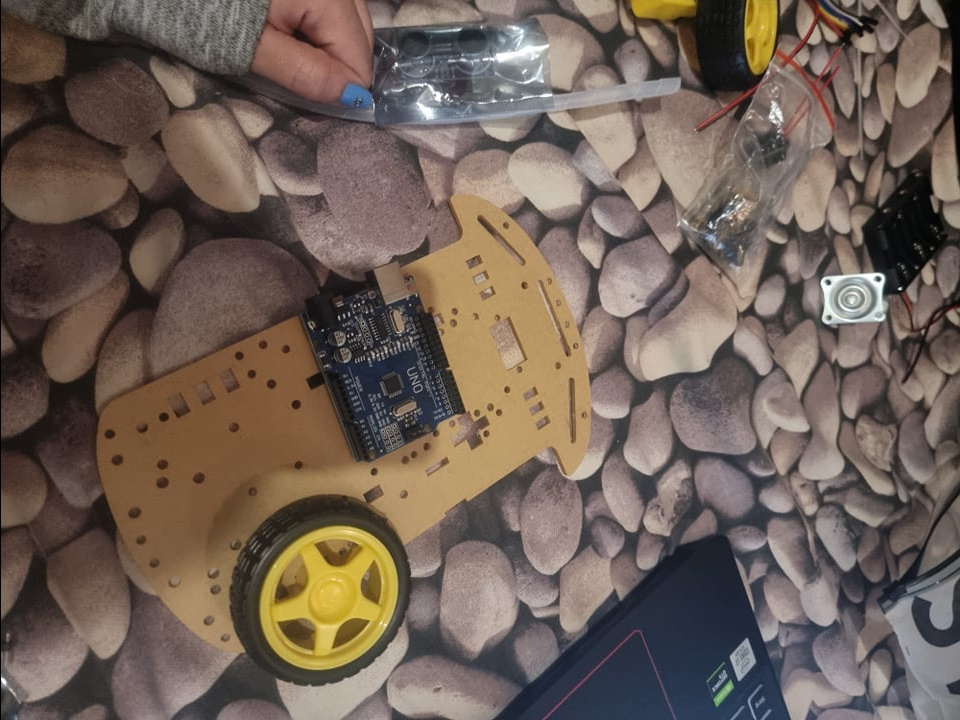BATTERY BOX: (859, 169, 947, 300)
SENSOR: (386, 23, 495, 83)
UNO R3: (299, 256, 470, 463)
